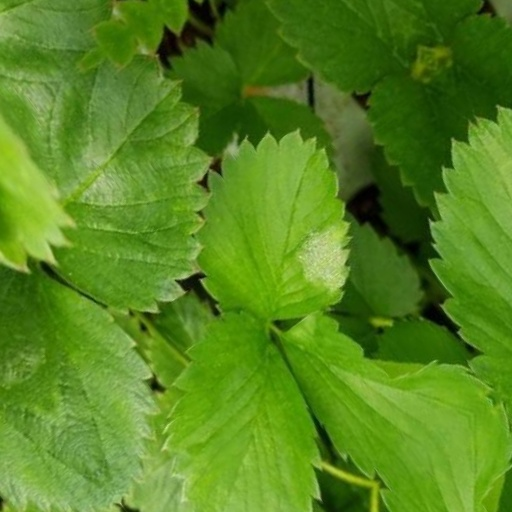Powdery Mildew Leaf: (194, 167, 376, 359)
